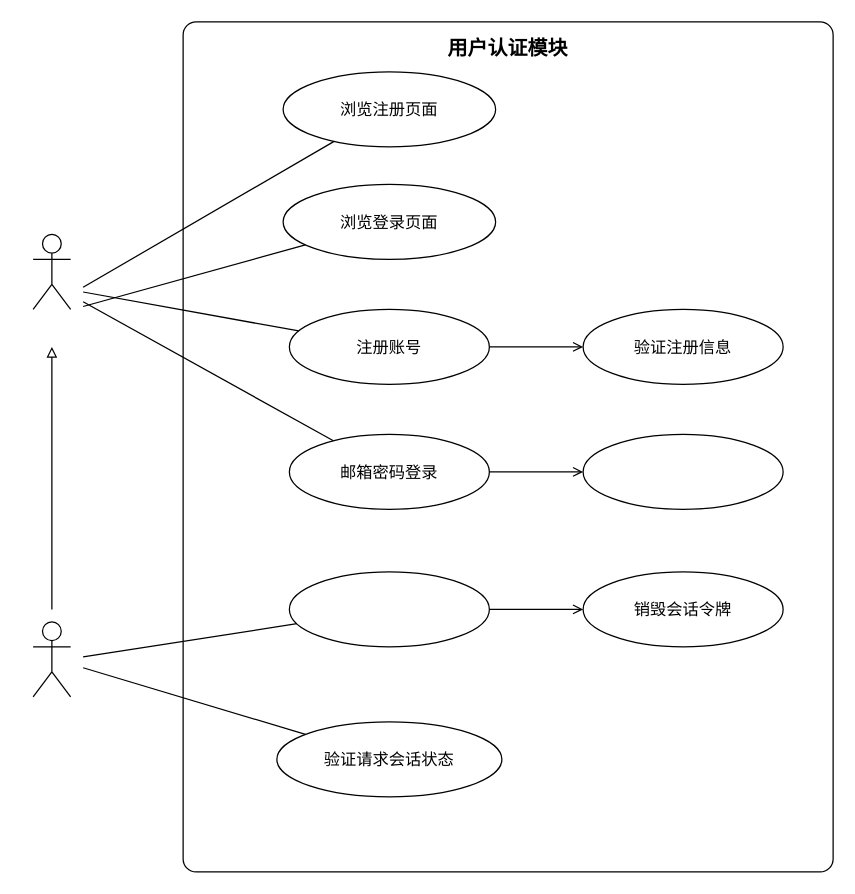
The diagram is 855 pixels wide and 894 high, and some of its shapes have lost their labels. Each missing label, with the centre of its shape:
"创建会话令牌" belongs at pixel 682 471.
"注册用户" belongs at pixel 51 659.
"游客" belongs at pixel 51 271.
"退出登录" belongs at pixel 388 609.
